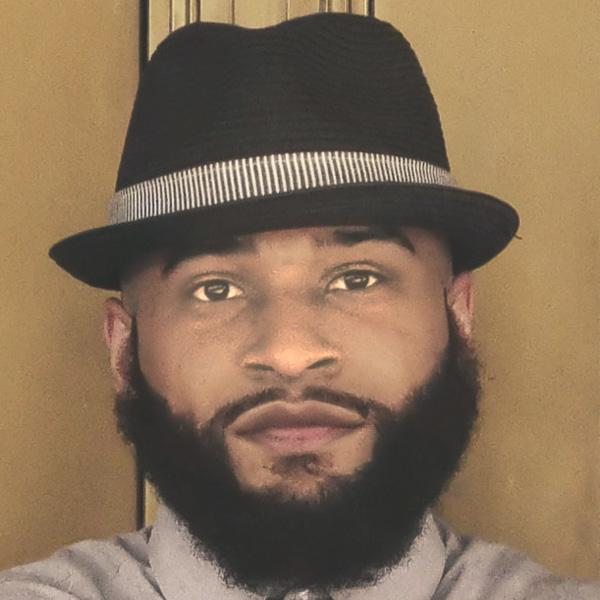Eyes: (313, 255, 396, 306), (177, 265, 257, 314)
